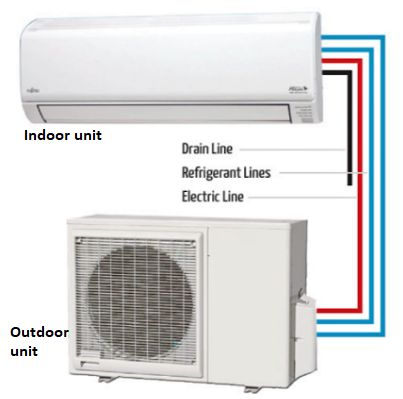ac: (14, 14, 334, 130)
